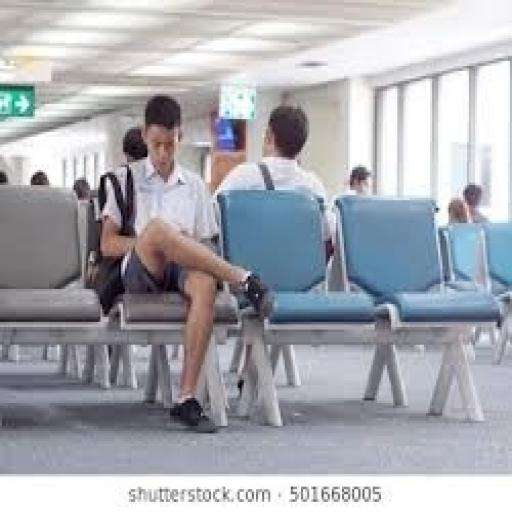sitting: (0, 91, 510, 431), (92, 92, 275, 434)
